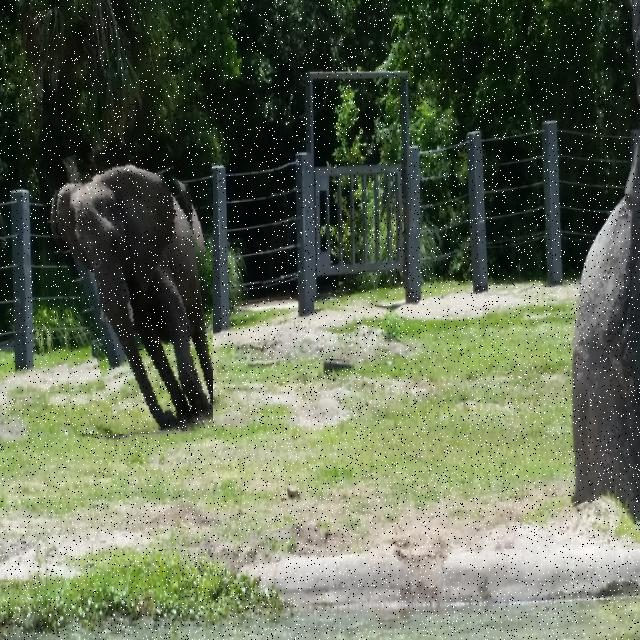elephant: (49, 141, 213, 434)
